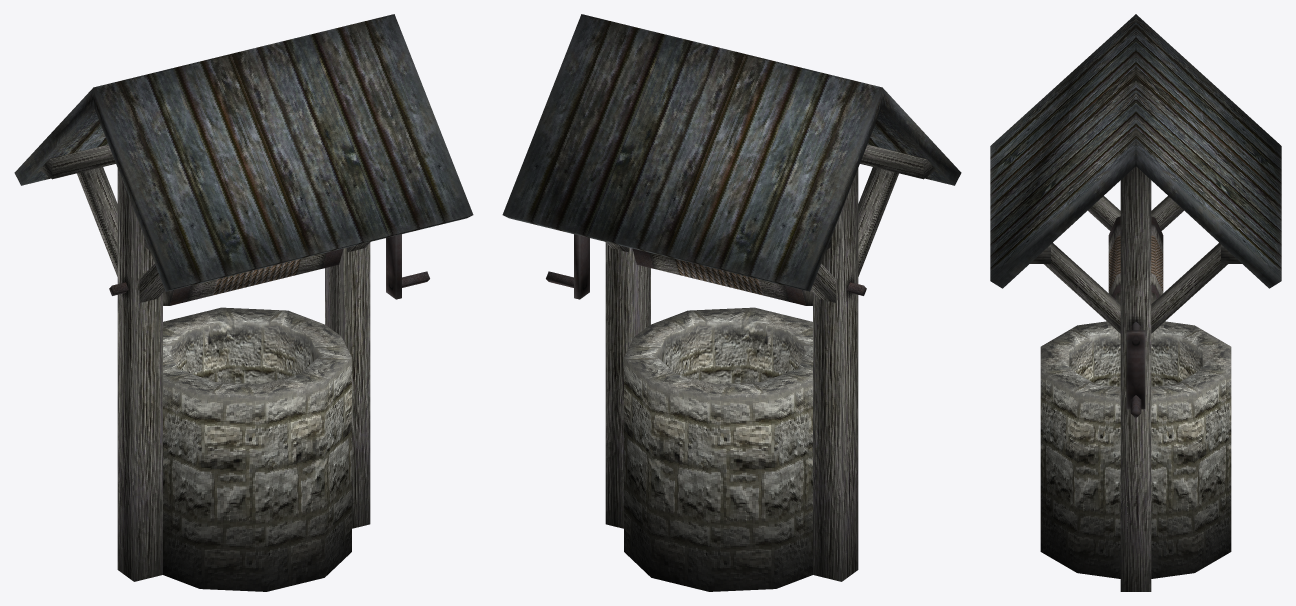
Rendered from WellModular.glb.
The picture shows the model from 3 angles, left to right: view 1: azimuth 30°, elevation 25°; view 2: azimuth 150°, elevation 25°; view 3: azimuth 270°, elevation 25°; orthographic projection. The views are drawn at different scales.
Visible parts, largest first — view 1: welltop, well; view 2: welltop, well; view 3: welltop, well.
Boxes of the visible parts, x1,y1,x2,y2 form: welltop: [14, 14, 473, 581]; well: [163, 307, 351, 591]; welltop: [502, 14, 961, 581]; well: [624, 307, 812, 591]; welltop: [990, 14, 1281, 591]; well: [1040, 321, 1231, 578].
Bounding box in the file's own units: 5.85 × 8.32 × 4.8.
Materials: 2 (2 with a texture image).
